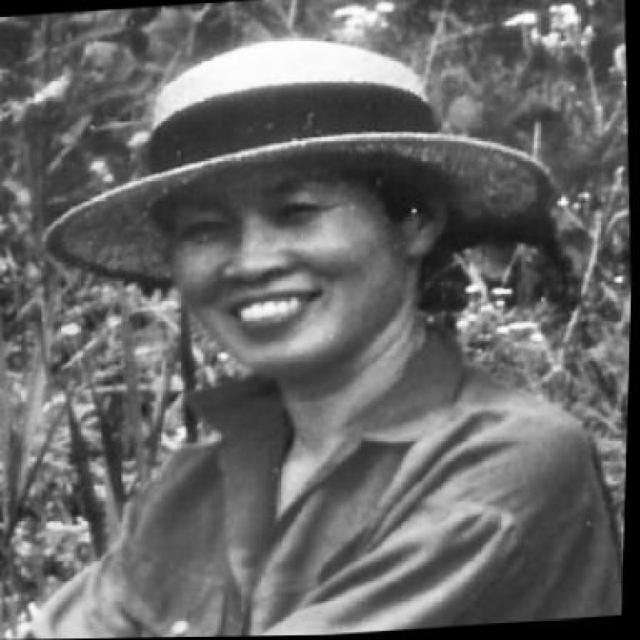hat: (39, 39, 553, 288)
